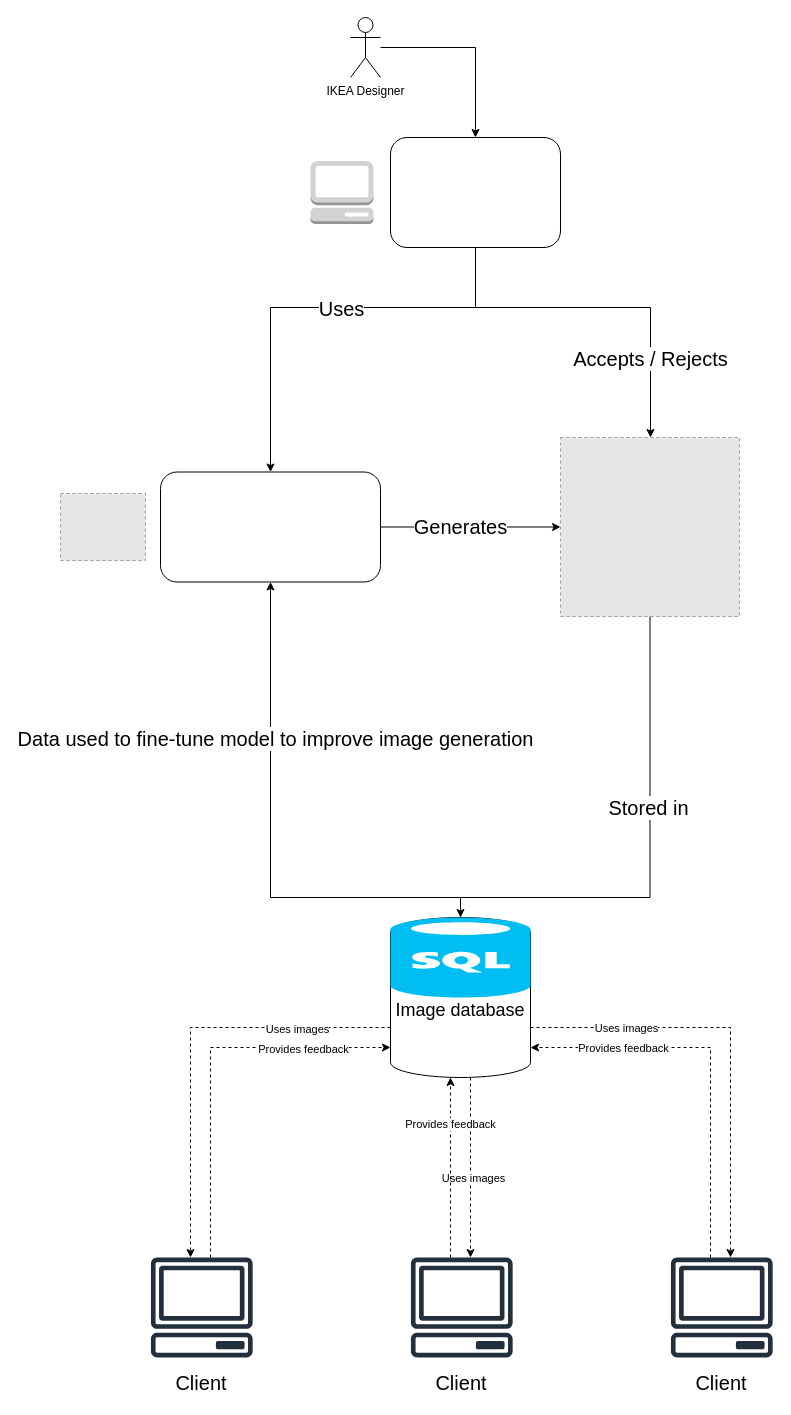
The diagram is 791 pixels wide and 1415 high, and some of its shapes have lost their labels. Grey dashed boxes stand in for pictures. Here are the shapes that lost their labels. From the top down, the centre of each, then its label:
the point at 475,192: Ai model GUI
the point at 270,526: Image-to-Image AiModel
